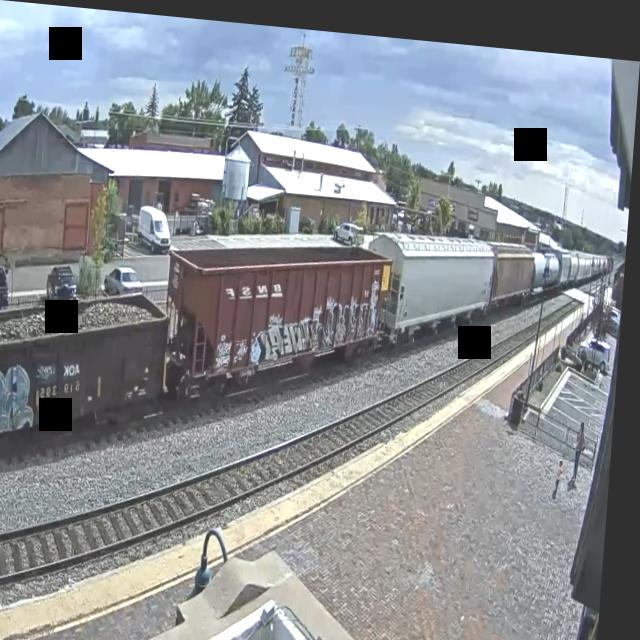gondola: (0, 268, 181, 481)
hopper: (160, 215, 398, 430), (364, 214, 501, 353)
